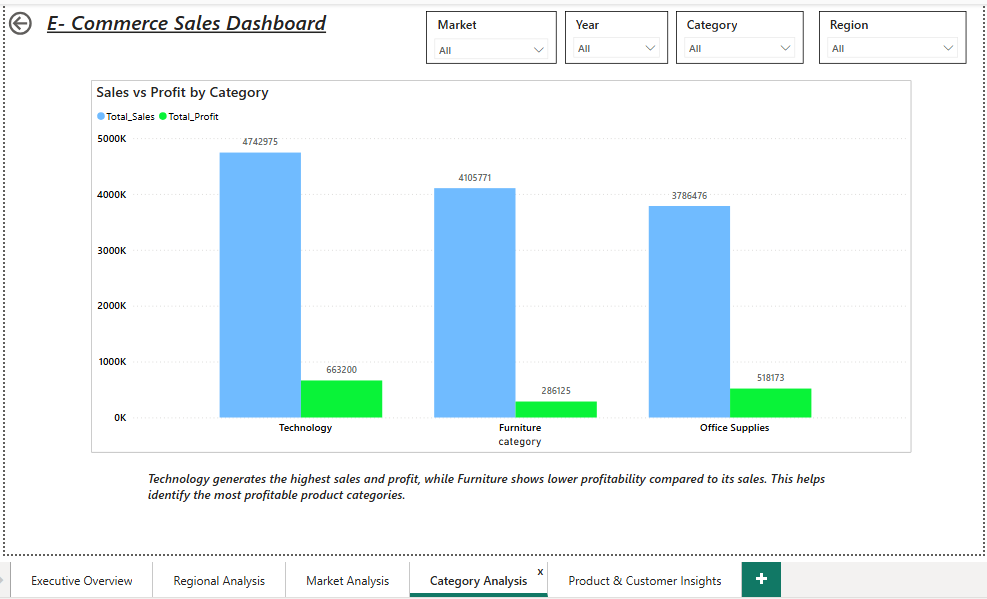

The dashboard page shown, as its layout file describes it:
{"tool":"powerbi","page":{"name":"Category Analysis","canvas":[1280,720],"ordinal":3},"visuals":[{"type":"slicer","fields":{"Values":["E-Commerce.market"]},"box":[551.5,8.6,171.4,69.1],"z":0},{"type":"slicer","fields":{"Values":["E-Commerce.year"]},"box":[733,8.6,135.4,69.1],"z":1000},{"type":"slicer","fields":{"Values":["E-Commerce.category"]},"box":[878.4,8.6,167,69.1],"z":2000},{"type":"slicer","fields":{"Values":["E-Commerce.region"]},"box":[1065.6,8.6,193,69.1],"z":3000},{"type":"clusteredColumnChart","title":"Sales vs Profit by Category","fields":{"Category":["E-Commerce.category"],"Y":["E-Commerce.Total_Sales","E-Commerce.Total_Profit"]},"box":[112.3,99.4,1074.2,488.2],"z":4000},{"type":"textbox","box":[181.4,604.8,941.8,67.7],"z":5000},{"type":"textbox","box":[50,0,475,50],"z":6000},{"type":"actionButton","box":[0,5,100,40],"z":7000}]}

Visuals, with their boxes on the page's 1280x720 design canvas (x1, y1, x2, y2). These are canvas units, not pixel positions in the 987x599 screenshot, which may show the page scaled, cropped or inside an application window:
slicer - E-Commerce.market: (552, 9, 723, 78)
slicer - E-Commerce.year: (733, 9, 868, 78)
slicer - E-Commerce.category: (878, 9, 1045, 78)
slicer - E-Commerce.region: (1066, 9, 1259, 78)
"Sales vs Profit by Category" clusteredColumnChart: (112, 99, 1186, 588)
textbox: (181, 605, 1123, 672)
textbox: (50, 0, 525, 50)
actionButton: (0, 5, 100, 45)
